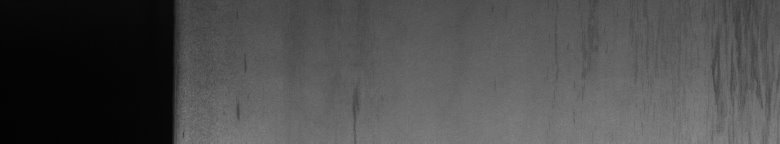ka: (712, 33, 770, 103)
